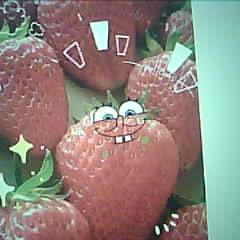straw-ripe: (57, 114, 177, 240), (0, 40, 69, 156)
